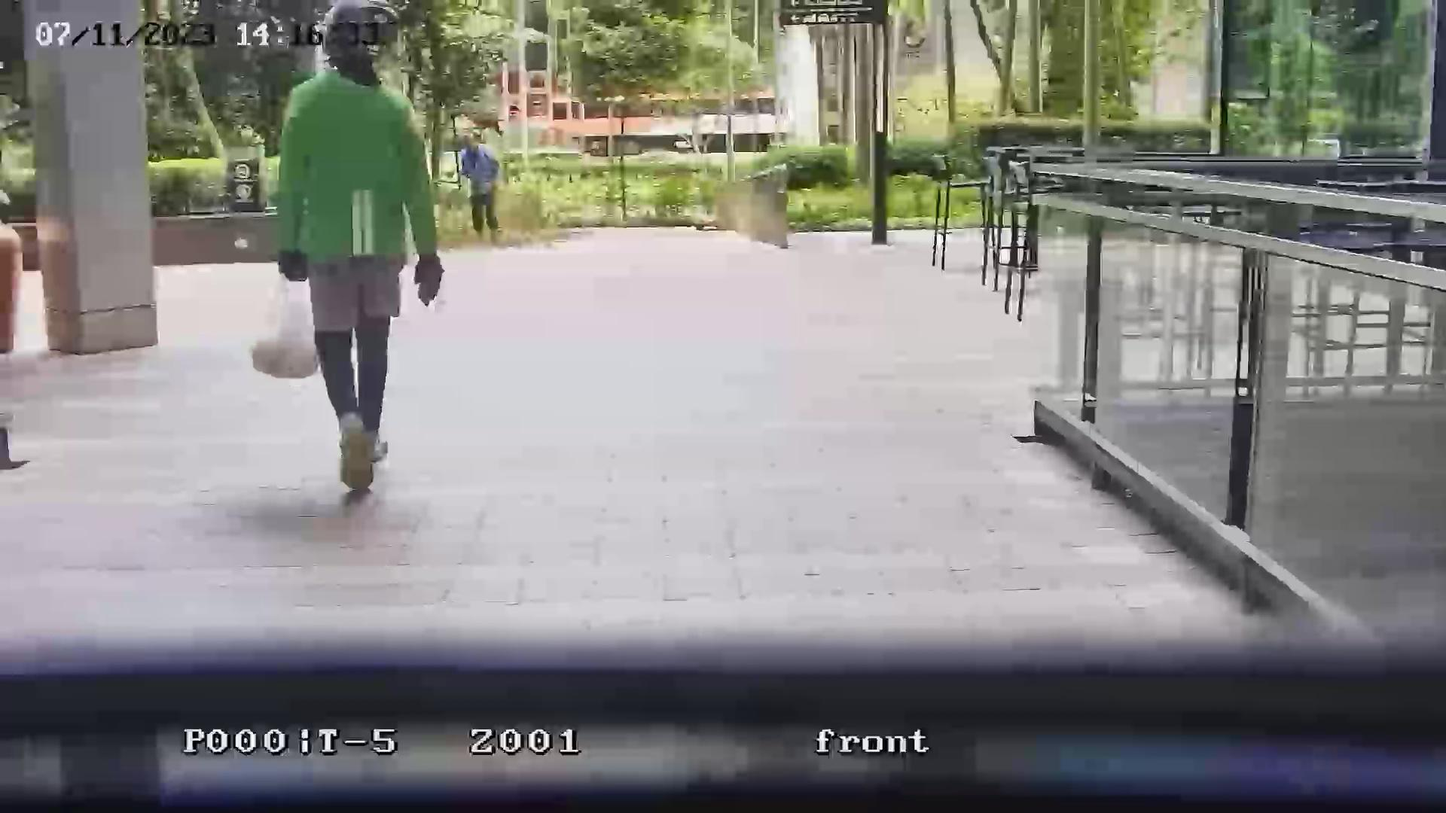person: (275, 0, 444, 492), (459, 132, 502, 237)
